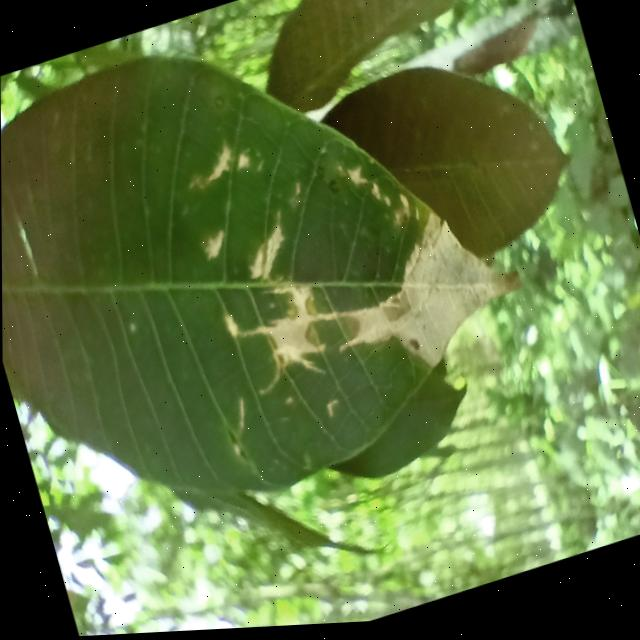Colletotrichum: (326, 180, 340, 197)
Leaf-Blight: (310, 196, 535, 398), (235, 279, 334, 397), (240, 226, 291, 285), (200, 146, 238, 184), (199, 230, 229, 262), (347, 166, 368, 191), (221, 311, 237, 340), (233, 152, 251, 174)
